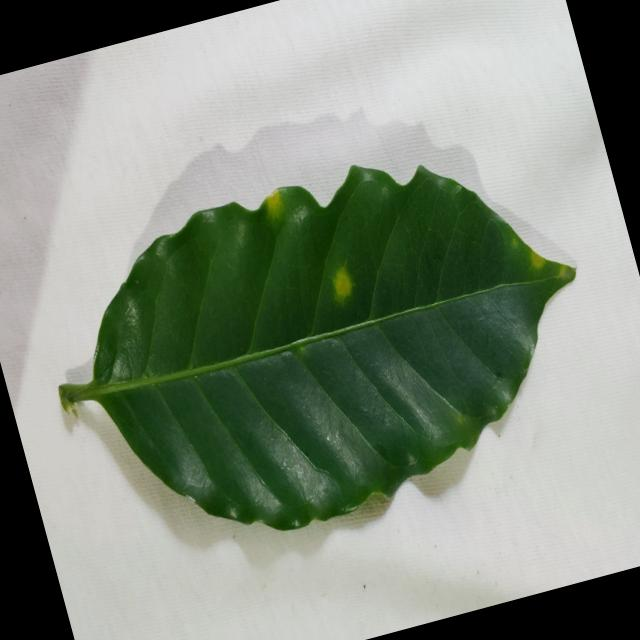KaratDaunKopi: (333, 265, 353, 303), (265, 189, 282, 216), (531, 250, 545, 267)
